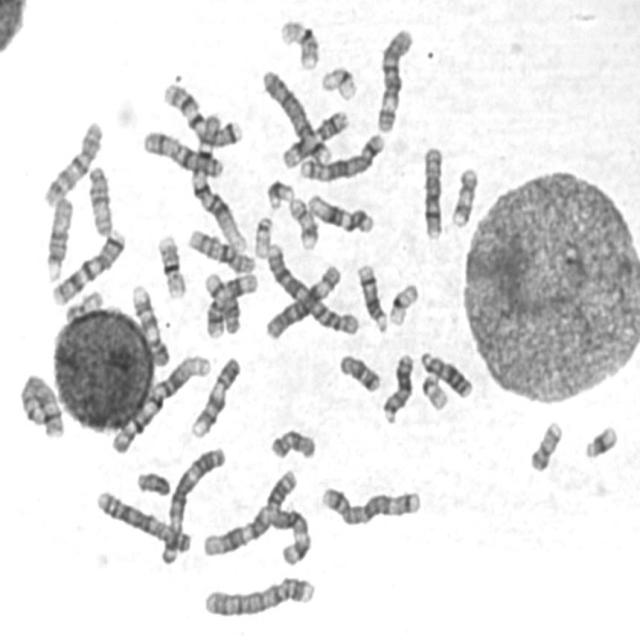A1: (107, 351, 213, 456), (188, 107, 250, 252)
A2: (263, 238, 361, 338), (93, 487, 194, 554)
A3: (158, 443, 228, 566), (264, 502, 313, 567)
B4: (258, 64, 334, 166), (201, 572, 317, 620)
B5: (297, 128, 388, 184), (318, 482, 422, 526)
C10: (40, 116, 106, 209), (184, 224, 257, 276)
C11: (278, 105, 350, 170), (202, 271, 260, 340)
C12: (199, 500, 271, 559), (304, 189, 376, 235)
C6: (261, 260, 343, 341), (373, 23, 415, 134)
C7: (48, 225, 128, 307), (160, 78, 245, 150)
C8: (20, 376, 66, 440), (419, 141, 446, 242)
C9: (188, 353, 243, 440), (128, 280, 172, 367)
D13: (416, 346, 475, 399), (379, 348, 416, 426)
D14: (354, 259, 391, 335), (204, 267, 243, 335)
D15: (42, 192, 74, 284), (84, 161, 115, 238)
E16: (276, 15, 321, 72), (154, 230, 188, 300)
E17: (448, 162, 480, 229), (285, 194, 320, 251)
E18: (336, 350, 383, 394), (266, 425, 318, 462)
F19: (386, 278, 421, 328), (318, 61, 359, 103)
F20: (526, 416, 565, 473), (61, 286, 105, 323)
G21: (580, 420, 620, 461), (263, 176, 295, 210)
G22: (417, 371, 451, 412), (250, 212, 274, 260)
X: (139, 126, 226, 179)
Y: (133, 467, 172, 499)
